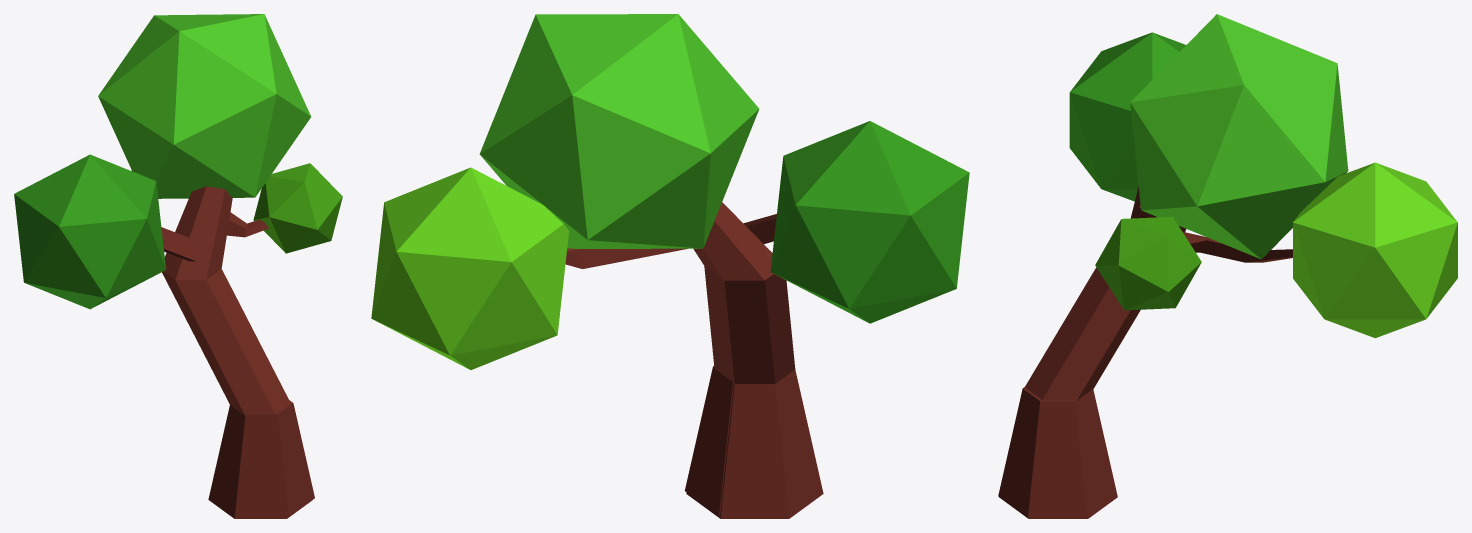
Rendered from Low poly tree 2.fbx.
3 views of the same model, side by side, from view 1: azimuth 30°, elevation 25°; view 2: azimuth 150°, elevation 25°; view 3: azimuth 270°, elevation 25° (orthographic). The views are drawn at different scales.
Parts seen in each view (by area): view 1: Icosphere.002; view 2: Icosphere.002; view 3: Icosphere.002.
Part boxes in pixels (bbox=[...]): Icosphere.002: bbox=[14, 14, 342, 518]; Icosphere.002: bbox=[371, 14, 969, 518]; Icosphere.002: bbox=[998, 14, 1457, 518].
Size of the model in its own units: 746 by 884 by 773.
